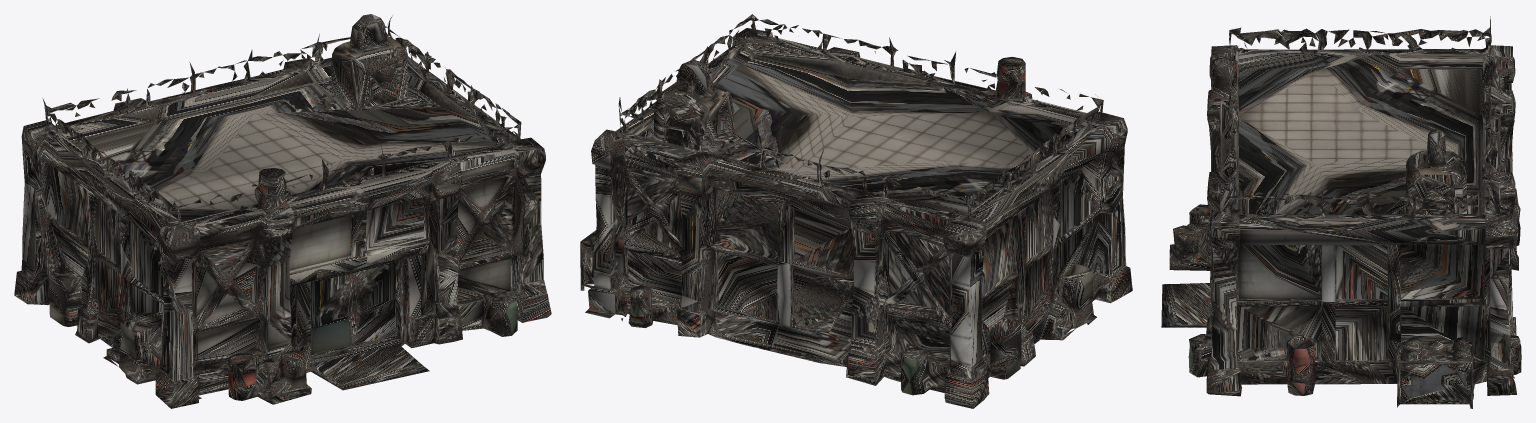
The model's file is bunker_store.glb.
3 renders of one model, left to right at view 1: azimuth 30°, elevation 25°; view 2: azimuth 150°, elevation 25°; view 3: azimuth 270°, elevation 25°, orthographic. The views are drawn at different scales.
Visible parts, largest first — view 1: bunker_store; view 2: bunker_store; view 3: bunker_store.
Boxes of the visible parts, box(x1,y1,x2,y2) form: bunker_store: box(14, 14, 551, 408); bunker_store: box(580, 14, 1132, 408); bunker_store: box(1161, 16, 1521, 408).
Bounding box in the file's own units: 1.9 × 1.05 × 1.46.
Materials: 1 (1 with a texture image).
